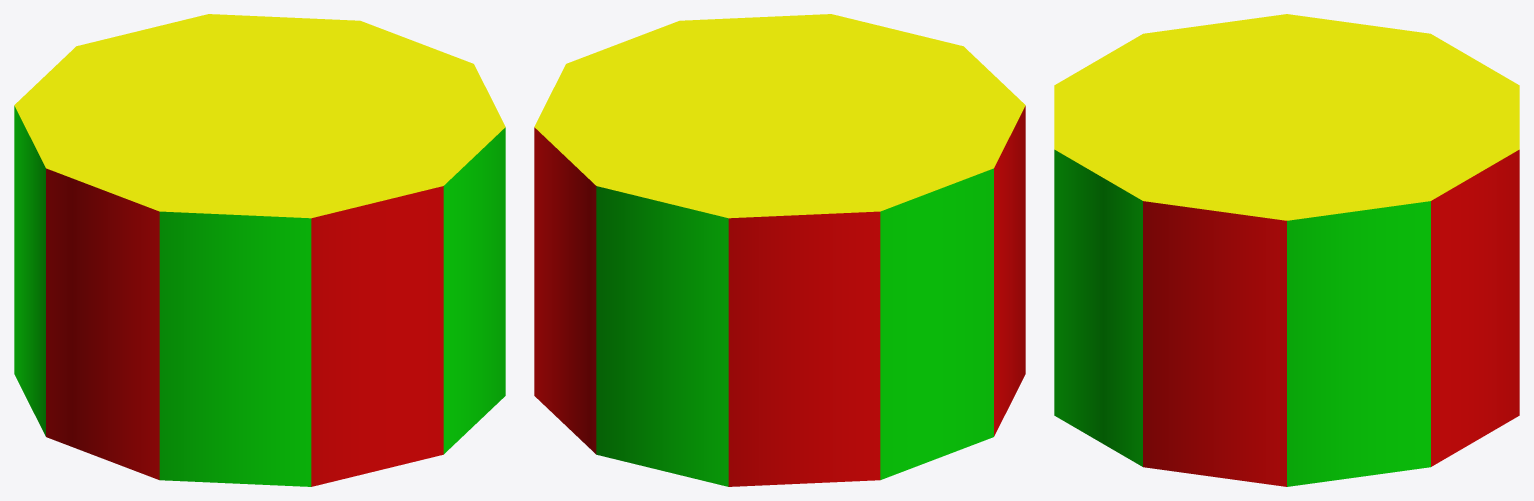
Rendered from 10prism_basic.DAE.
The picture shows the model from 3 angles, left to right: view 1: azimuth 30°, elevation 25°; view 2: azimuth 150°, elevation 25°; view 3: azimuth 270°, elevation 25°; orthographic projection.
Visible parts, largest first — view 1: Cylinder001; view 2: Cylinder001; view 3: Cylinder001.
Boxes of the visible parts, left/top/right/bottom form: Cylinder001: left=14, top=14, right=505, bottom=486; Cylinder001: left=534, top=14, right=1025, bottom=486; Cylinder001: left=1054, top=14, right=1519, bottom=486.
Size of the model in its own units: 500 by 476 by 300.
